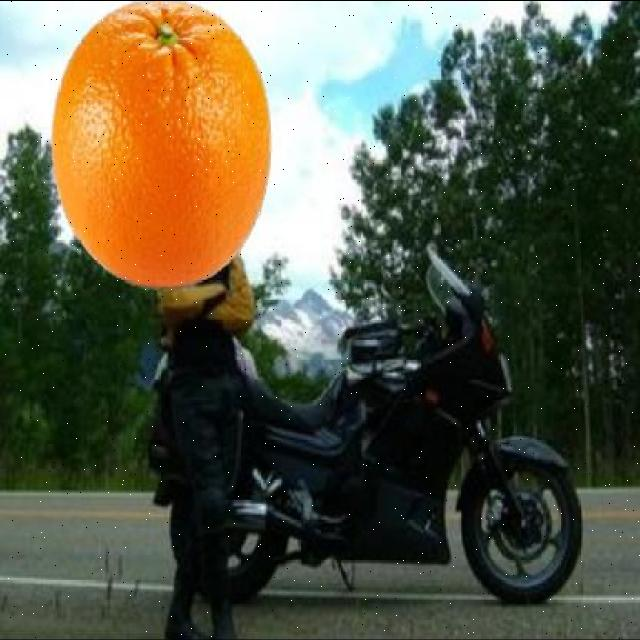Orange: (48, 2, 272, 290)
